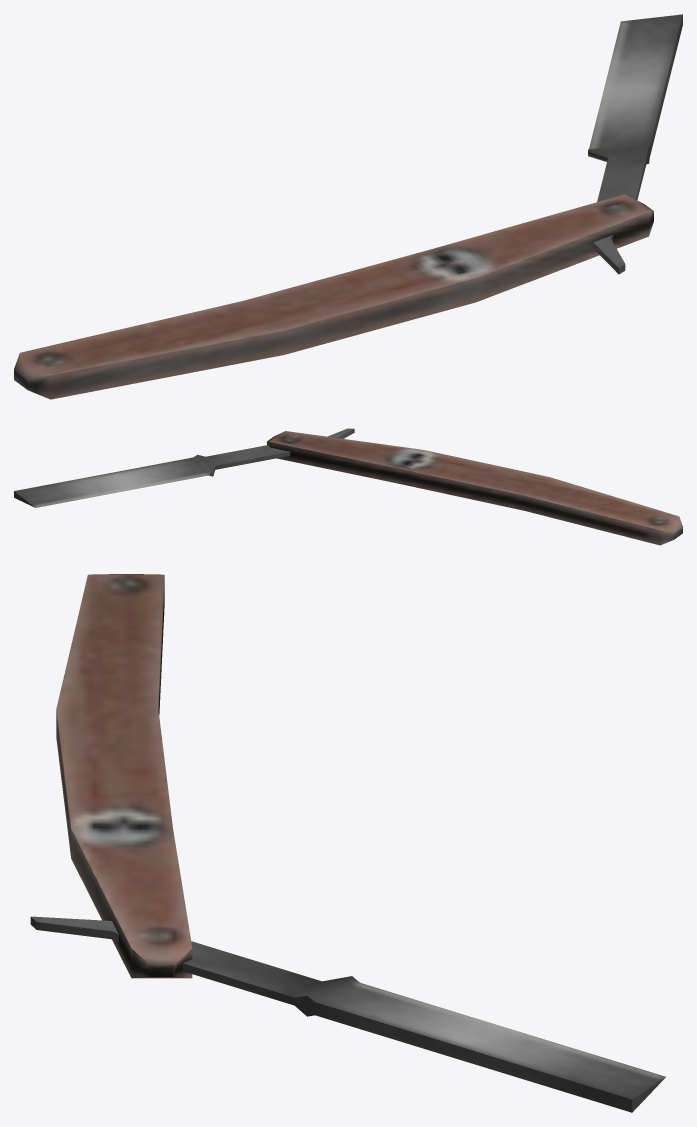
File: shop_barber_straightRazorOpen.fbx
The picture shows the model from 3 angles, top to bottom: view 1: azimuth 30°, elevation 25°; view 2: azimuth 150°, elevation 25°; view 3: azimuth 270°, elevation 25°; orthographic projection. The views are drawn at different scales.
Visible parts, largest first — view 1: razor_handle, razor_blade; view 2: razor_handle, razor_blade; view 3: razor_handle, razor_blade.
Part boxes in pixels (left/top/right/bottom): razor_handle: left=14, top=194, right=653, bottom=399; razor_blade: left=588, top=14, right=682, bottom=274; razor_handle: left=267, top=431, right=682, bottom=545; razor_blade: left=14, top=428, right=354, bottom=507; razor_handle: left=56, top=574, right=192, bottom=978; razor_blade: left=30, top=916, right=665, bottom=1112.
Bounding box in the file's own units: 54.3 × 1.45 × 27.78.
1 material, 1 textured.
